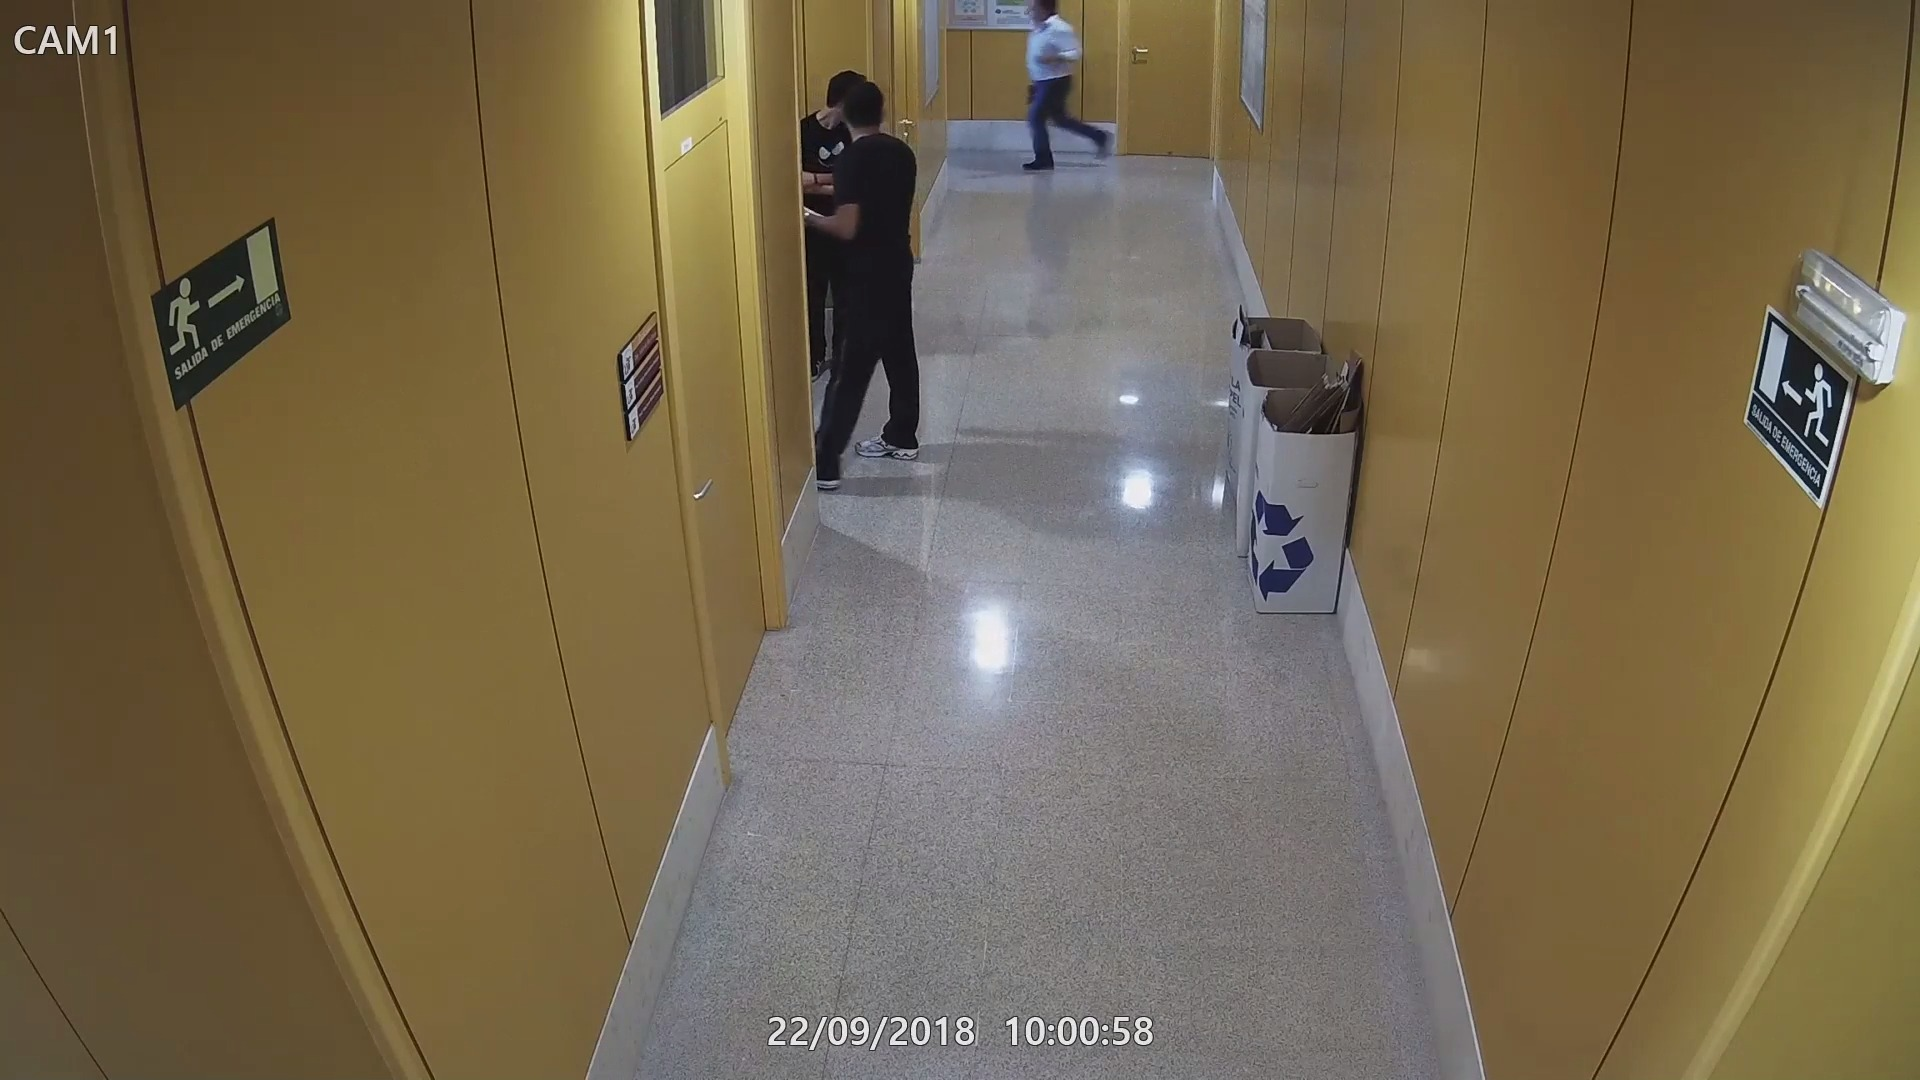Handgun: (1022, 79, 1036, 107)
